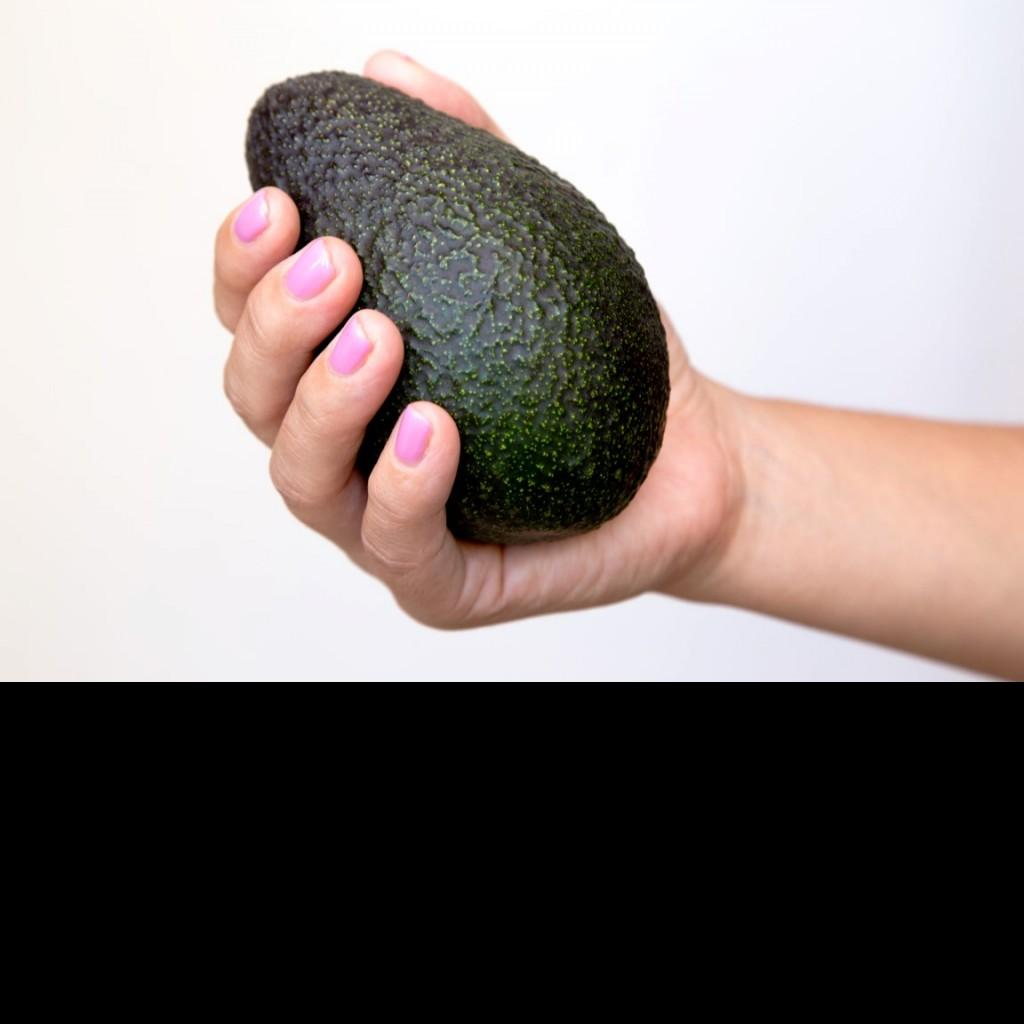almost: (246, 71, 671, 546)
